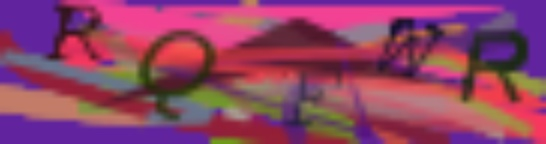F: (280, 64, 349, 130)
Q: (133, 27, 216, 121)
R: (457, 27, 531, 105), (45, 1, 104, 64)
W: (369, 15, 446, 83)
